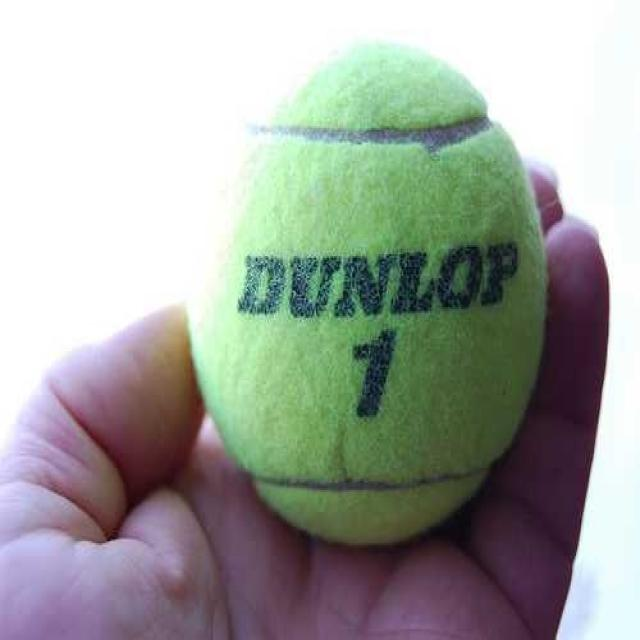Tennis_Ball: (185, 40, 550, 541)
